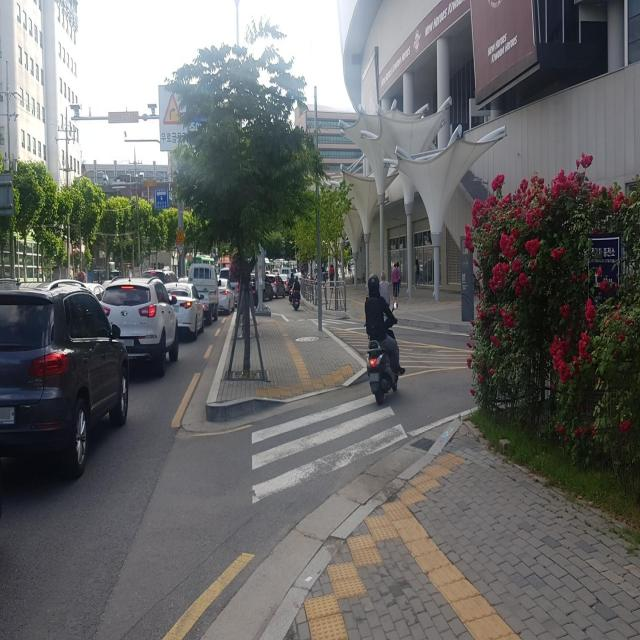횡단보도: (250, 392, 410, 506)
